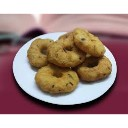vada: (36, 64, 78, 91), (28, 37, 64, 65), (46, 39, 86, 64), (73, 27, 108, 55), (78, 57, 113, 80)
